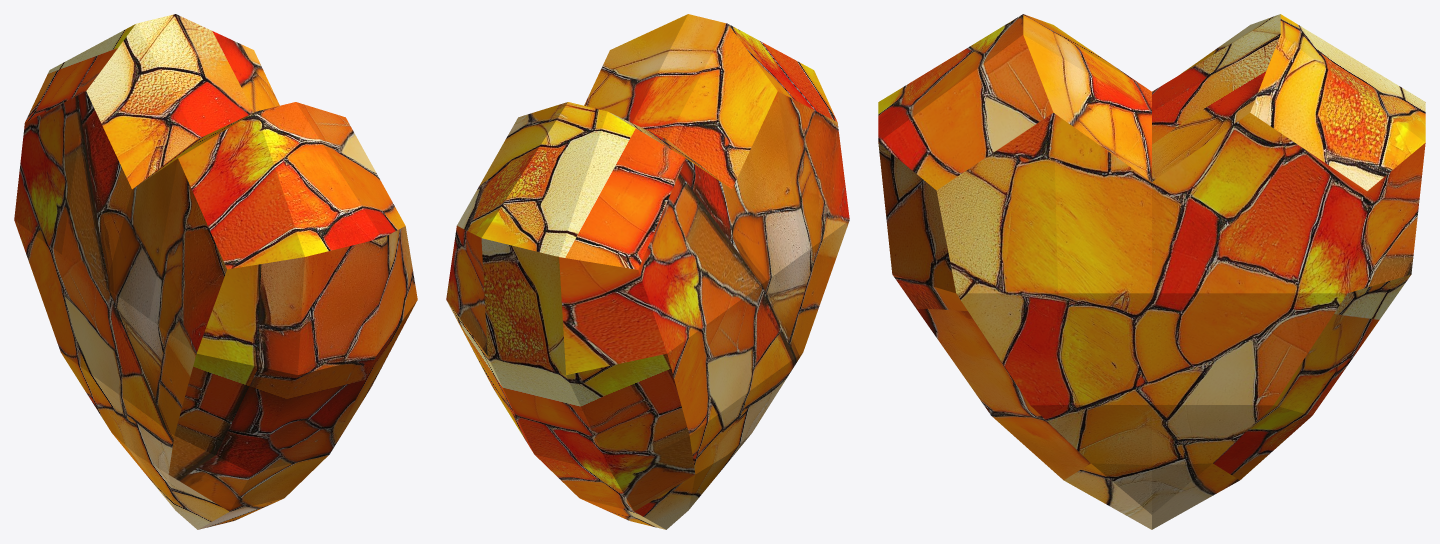
File: gemstone1OrangeCompressed.glb
The picture shows the model from 3 angles, left to right: view 1: azimuth 30°, elevation 25°; view 2: azimuth 150°, elevation 25°; view 3: azimuth 270°, elevation 25°; orthographic projection. The views are drawn at different scales.
Visible parts, largest first — view 1: geamstoneHeart; view 2: geamstoneHeart; view 3: geamstoneHeart.
Boxes of the visible parts, <box> form: geamstoneHeart: <box>14,14,417,529</box>; geamstoneHeart: <box>446,14,849,529</box>; geamstoneHeart: <box>878,14,1425,529</box>.
Bounding box in the file's own units: 0.5 × 1 × 1.
Materials: 1 (1 with a texture image).
